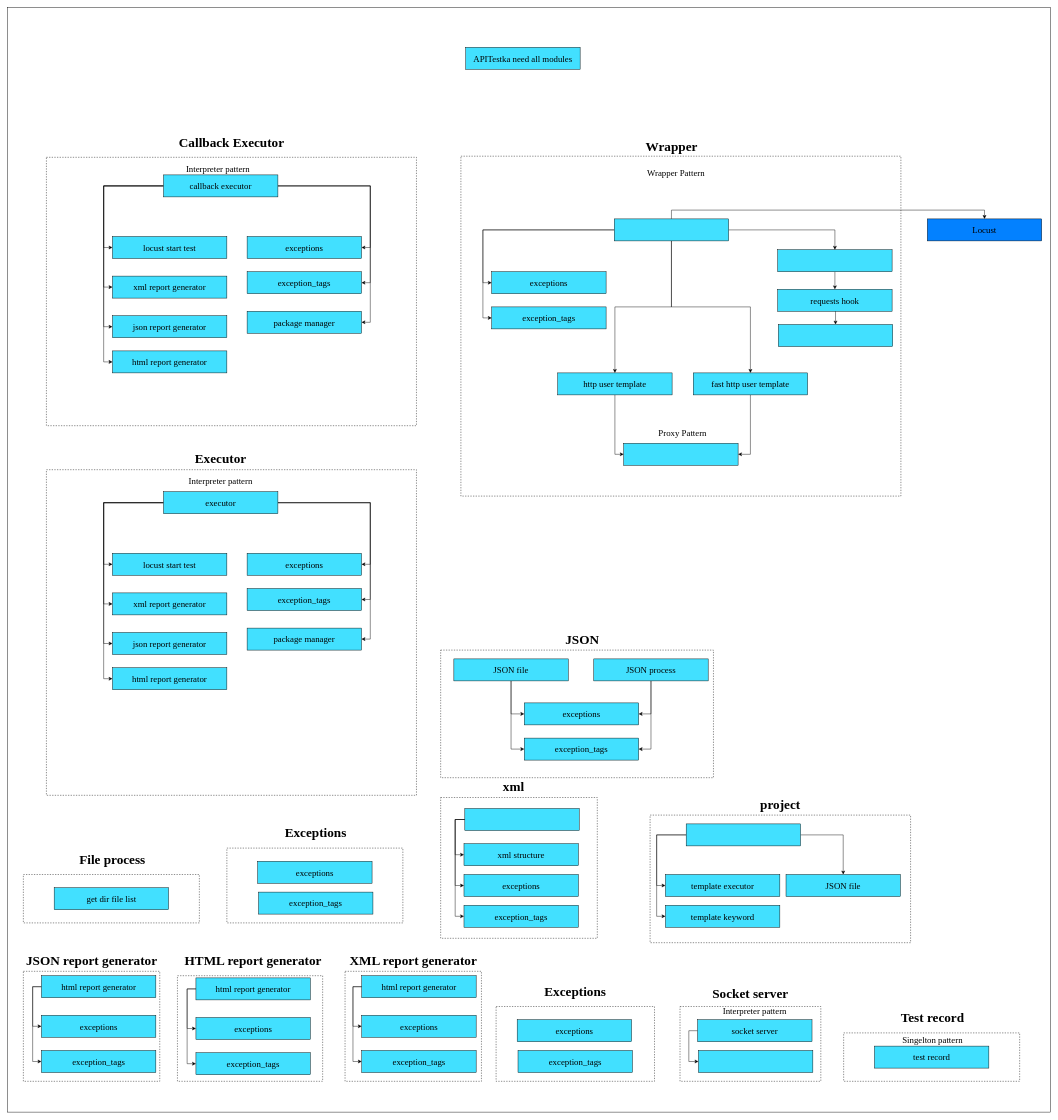
Some shapes in this 1058 by 1120 pixel diagram are drawn without their labels. The shapes that lost their labels are listed below. From the top down, each one's centre as x and y in pixels, then its label:
At (x=671, y=229): "start test".
At (x=834, y=260): "create locust env".
At (x=835, y=335): "test_record".
At (x=680, y=454): "proxy user".
At (x=521, y=819): "xml file".
At (x=743, y=834): "create project dir".
At (x=755, y=1061): "execute action".
